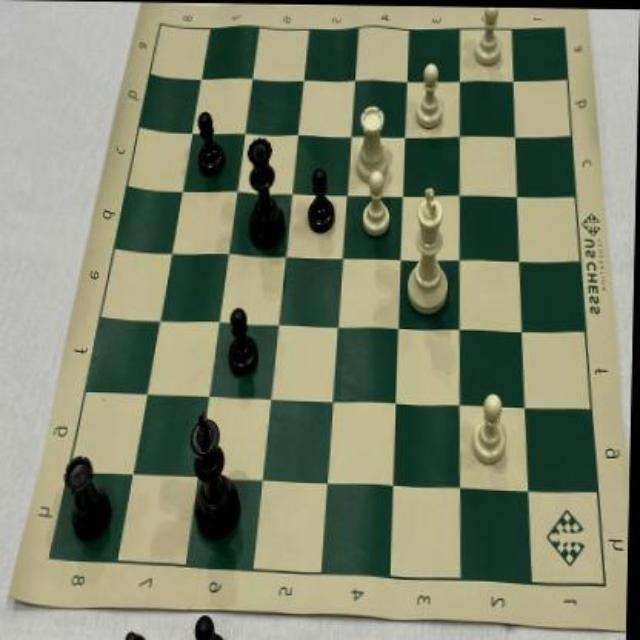black-king: (189, 407, 247, 547)
black-pawn: (226, 304, 262, 380), (306, 164, 338, 236), (197, 106, 227, 178)
black-queen: (245, 129, 289, 252)
black-rook: (64, 453, 118, 548)
white-king: (404, 184, 456, 320)
white-pawn: (471, 392, 512, 470), (361, 166, 397, 241), (413, 58, 449, 131), (471, 6, 507, 70)
white-rook: (353, 101, 393, 187)
